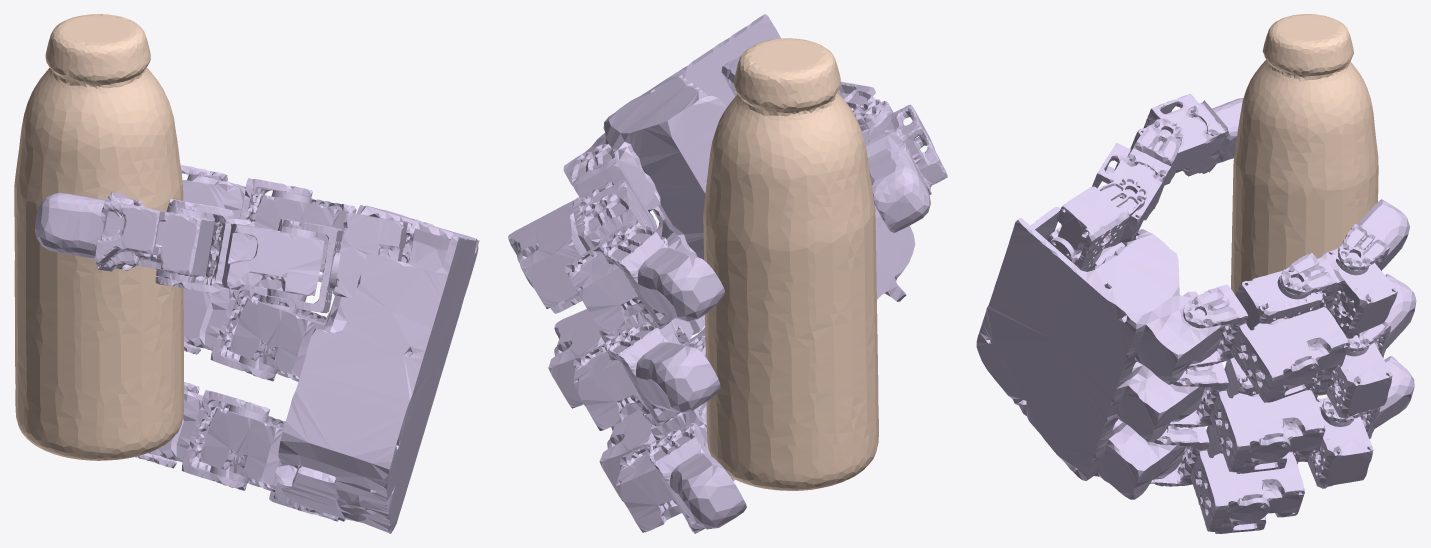
The model's file is e2f765f4a2222b-closed.glb.
The picture shows the model from 3 angles, left to right: view 1: azimuth 30°, elevation 25°; view 2: azimuth 150°, elevation 25°; view 3: azimuth 270°, elevation 25°; orthographic projection. The views are drawn at different scales.
Parts seen in each view (by area): view 1: LEAP_hand, world; view 2: LEAP_hand, world; view 3: LEAP_hand, world.
Boxes of the visible parts, x1,y1,x2,y2 form: LEAP_hand: [34, 165, 479, 533]; world: [14, 14, 184, 460]; LEAP_hand: [508, 14, 947, 533]; world: [703, 38, 878, 490]; LEAP_hand: [976, 94, 1416, 533]; world: [1231, 14, 1378, 395].
Bounding box in the file's own units: 0.1839 × 0.2235 × 0.2068.
